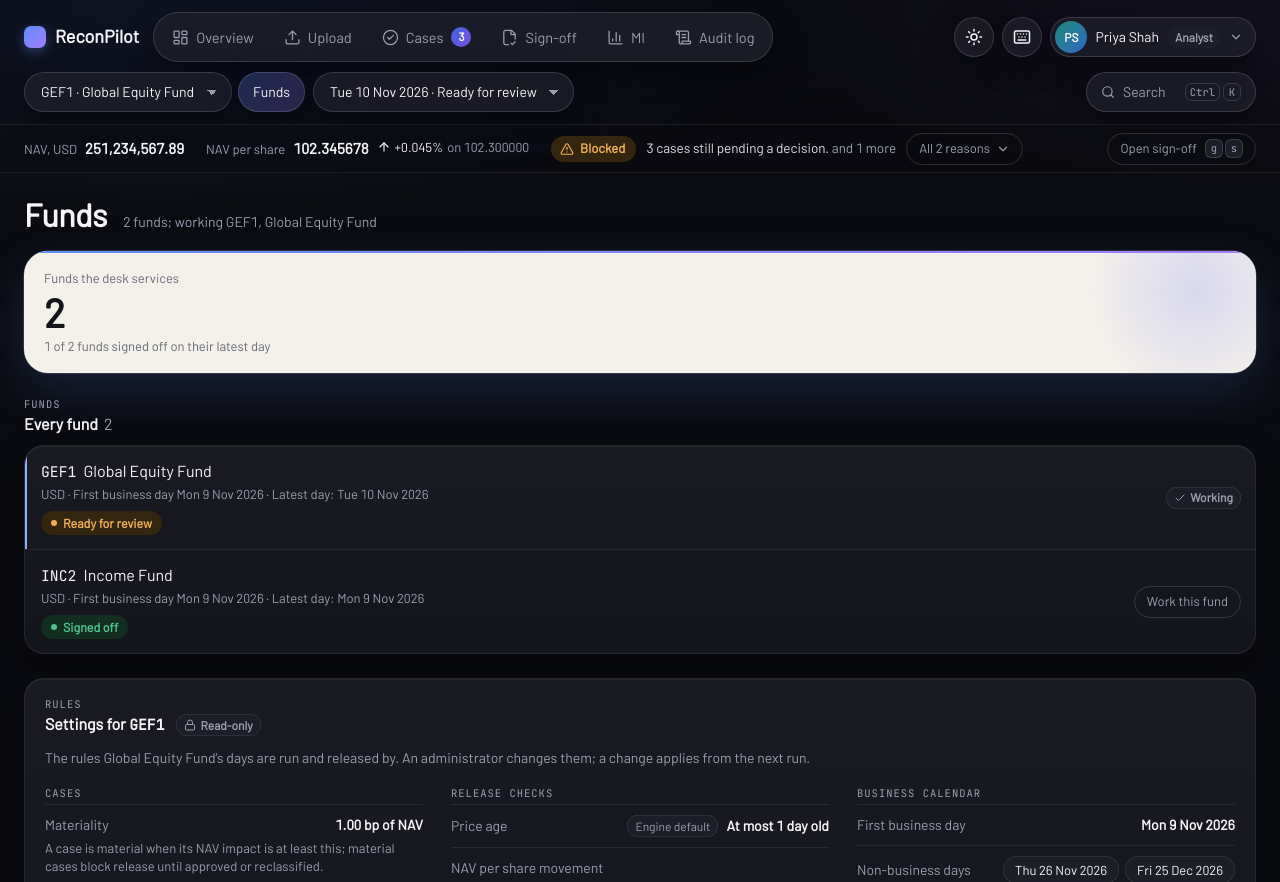
Scenario: FundsScreen › switches to another fund, stores the choice and shows that fund's settings
What coordinates should you click on to do the following:
click the button with aria-label "Work this fund: INC2"
I would click on:
 (1187, 602)
Its box is [1134,586,1241,618].
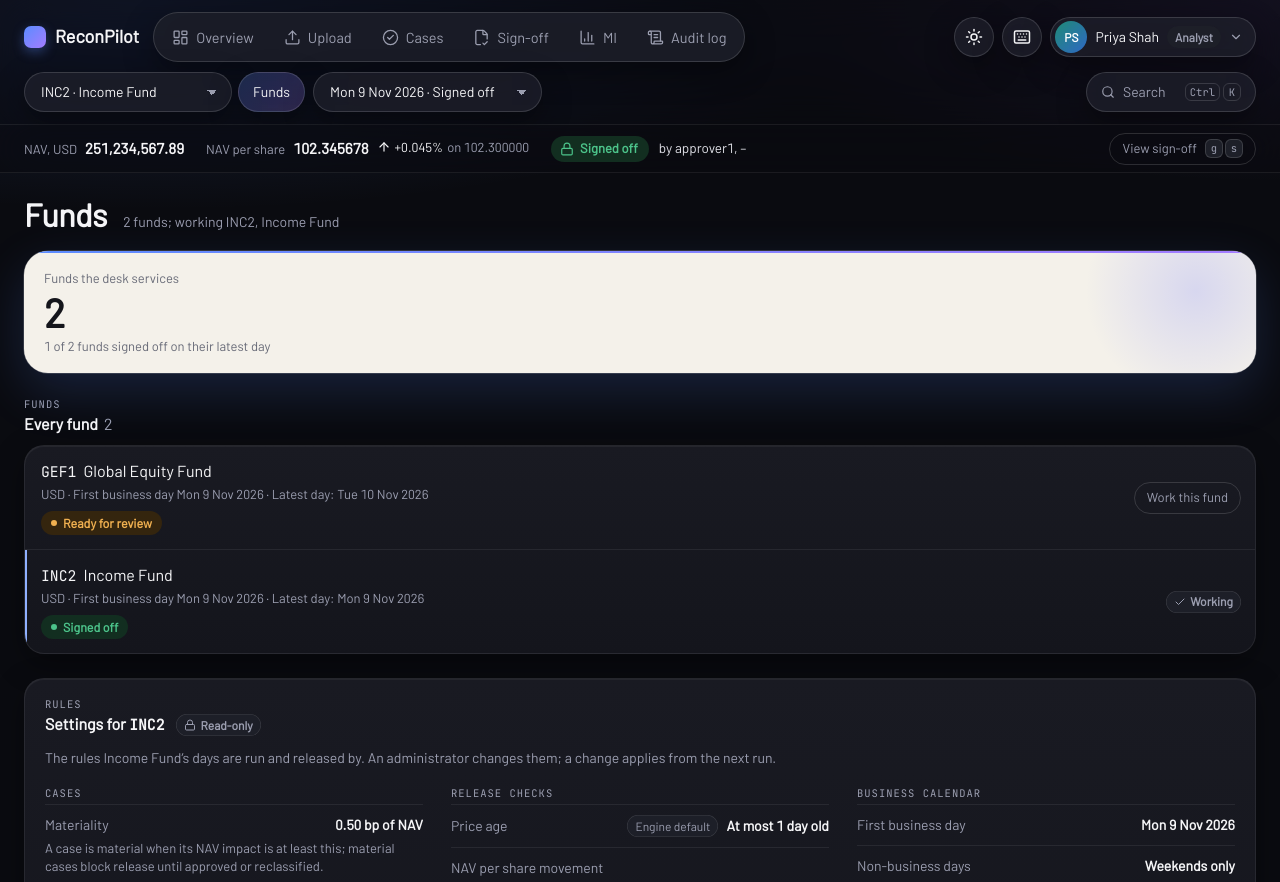
Now the text "0.50 bp of NAV" is shown, box [335,815,423,835]
Now the text "Weekends only" is shown, box [1145,856,1235,876]
